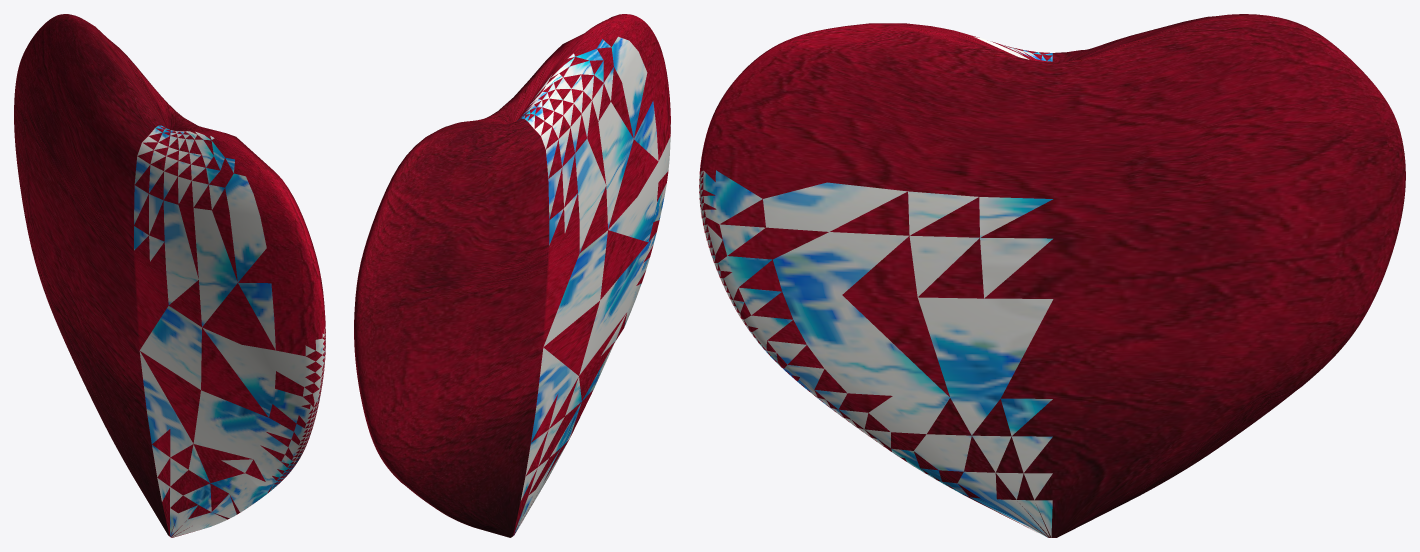
Rendered from corazon.obj.
3 renders of one model, left to right at view 1: azimuth 30°, elevation 25°; view 2: azimuth 150°, elevation 25°; view 3: azimuth 270°, elevation 25°, orthographic. The views are drawn at different scales.
Parts seen in each view (by area): view 1: default; view 2: default; view 3: default.
Part boxes in pixels (x1=…): default: x1=14, y1=14, x2=325, y2=537; default: x1=354, y1=14, x2=670, y2=537; default: x1=699, y1=14, x2=1405, y2=537.
Bounding box in the file's own units: 0.7757 × 4.87 × 5.97.
